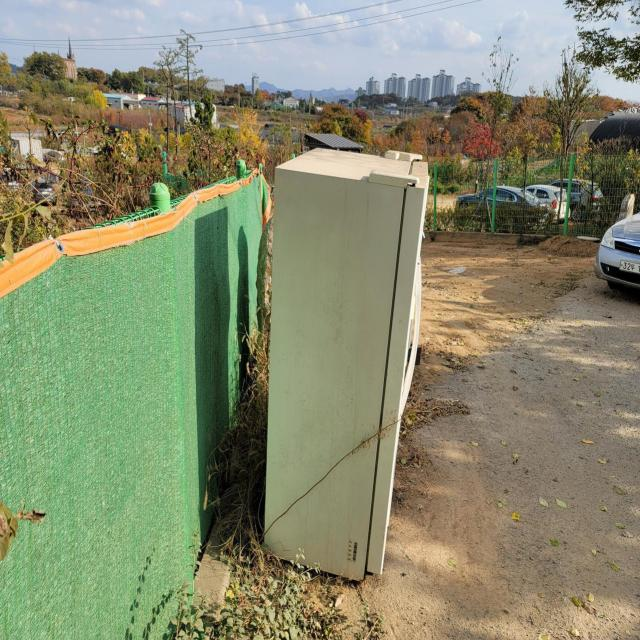refrigerator: (258, 143, 433, 591)
